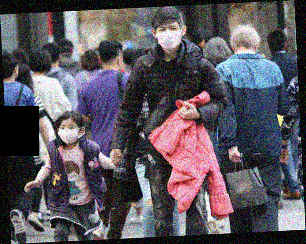with_mask: (154, 23, 184, 49), (56, 123, 79, 145)
